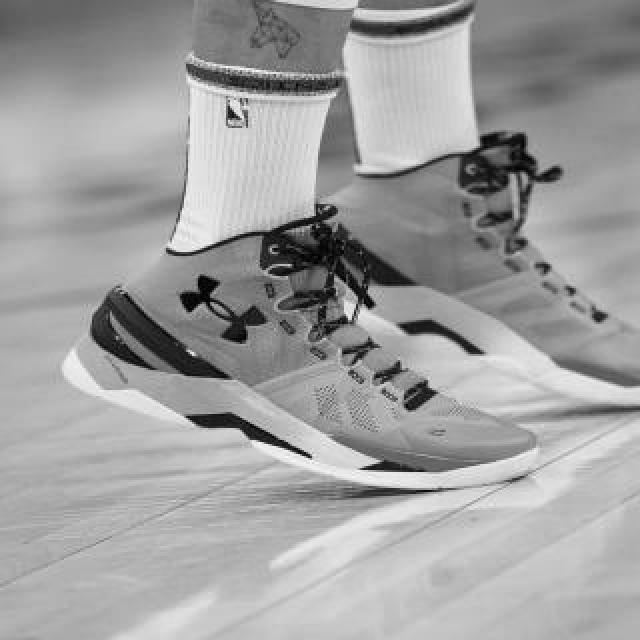shoe: (62, 204, 540, 492), (294, 130, 640, 406)
